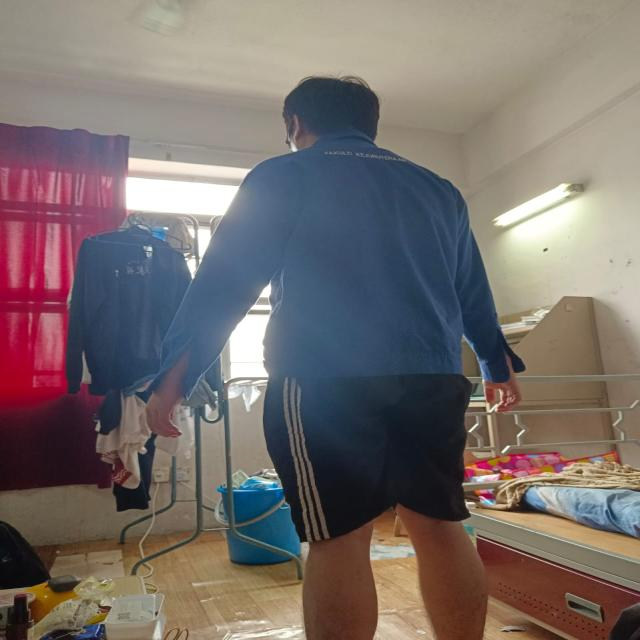person_with_labcoat: (146, 78, 525, 640)
